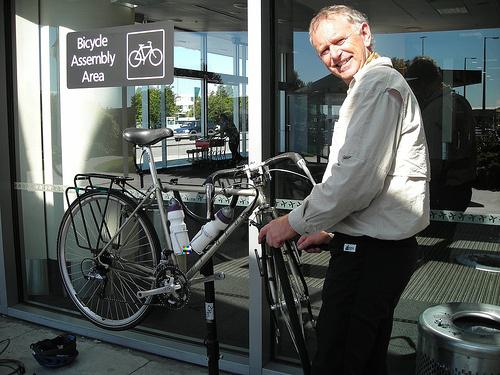car: (54, 125, 320, 375)
person: (257, 4, 435, 375)
